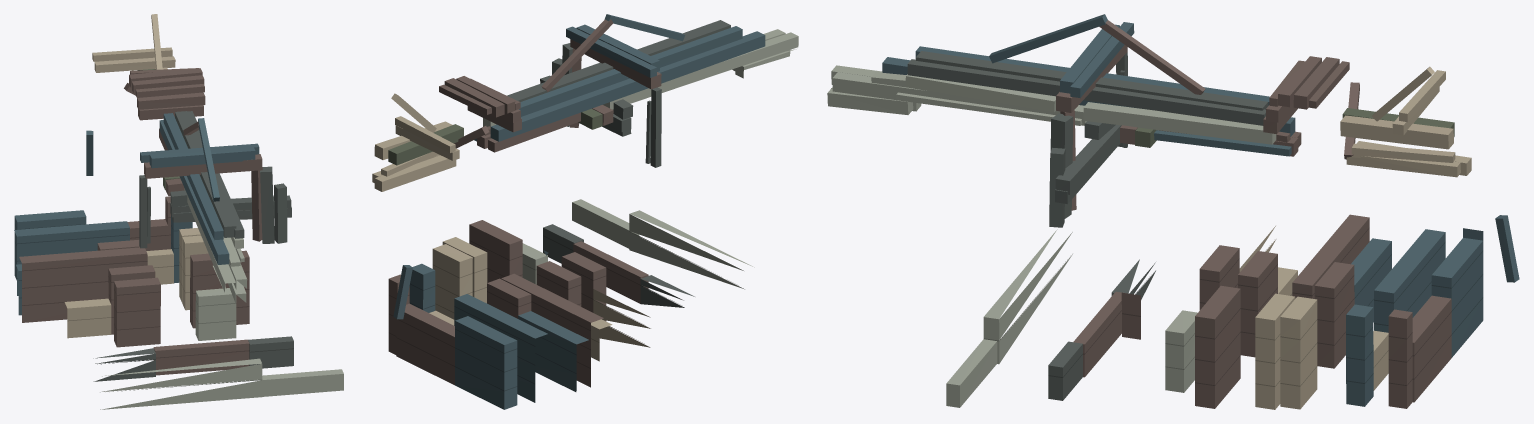
File: terminal-72---21_15.glb
3 views of the same model, side by side, from view 1: azimuth 30°, elevation 25°; view 2: azimuth 150°, elevation 25°; view 3: azimuth 270°, elevation 25° (orthographic). The views are drawn at different scales.
Visible parts, largest first — view 1: measured-industrial; view 2: measured-industrial; view 3: measured-industrial.
Part boxes in pixels (x1,y1,x2,y2): measured-industrial: [14, 14, 343, 409]; measured-industrial: [372, 14, 798, 409]; measured-industrial: [827, 14, 1519, 409].
Bounding box in the file's own units: 37.79 × 43.39 × 80.79.
